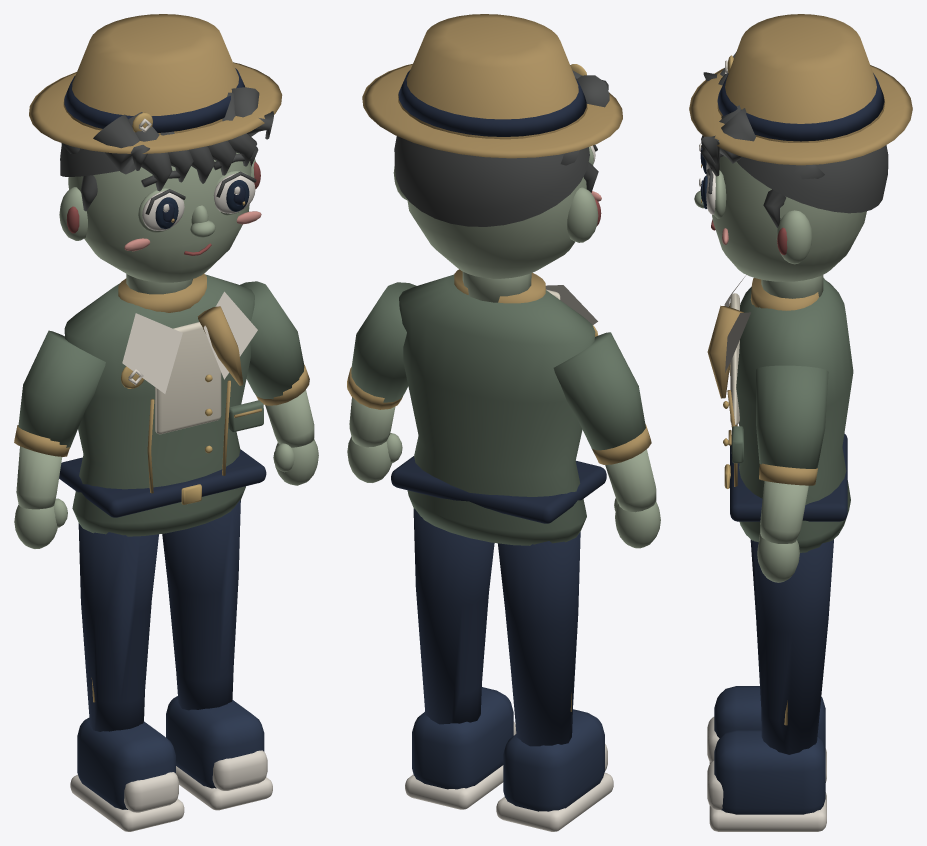
Rendered from xingyin-characters-v1__grave_character_zombie.glb.
The picture shows the model from 3 angles, left to right: view 1: azimuth 30°, elevation 25°; view 2: azimuth 150°, elevation 25°; view 3: azimuth 270°, elevation 25°; orthographic projection. The views are drawn at different scales.
Parts seen in each view (by area): view 1: figure.011; view 2: figure.011; view 3: figure.011.
Boxes of the visible parts, box(x1,y1,x2,y2) form: figure.011: box(14, 14, 318, 831); figure.011: box(347, 14, 660, 831); figure.011: box(689, 14, 912, 831).
Size of the model in its own units: 1.05 by 2.5 by 0.6679.
